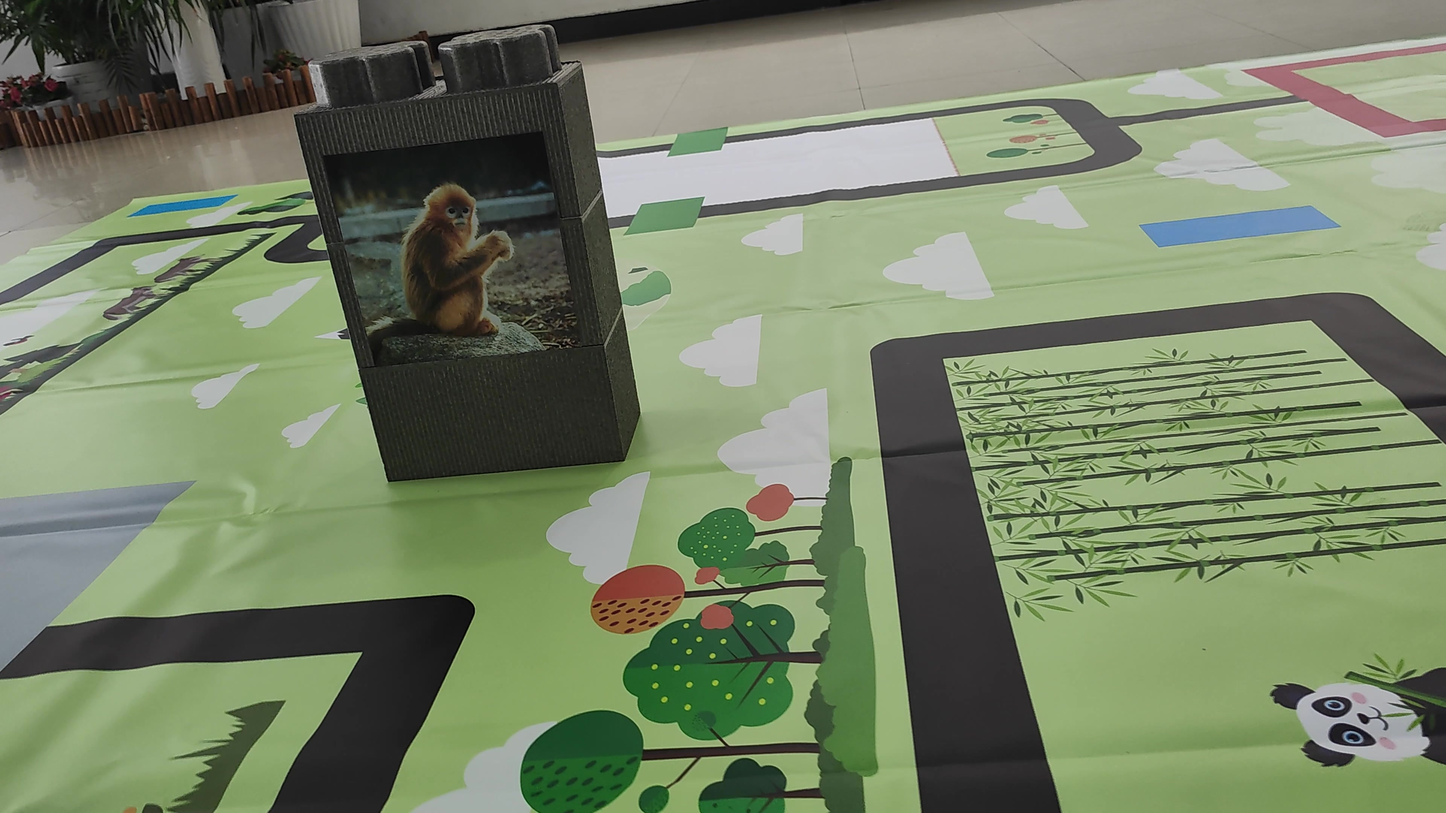monkey: (344, 159, 552, 353)
